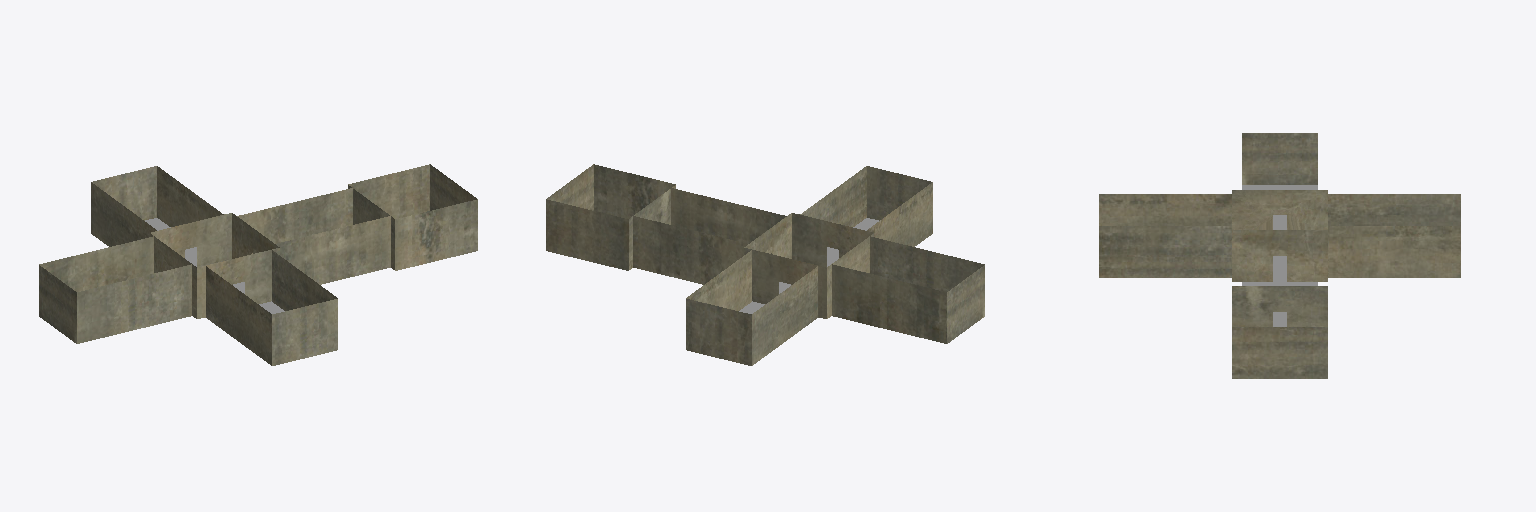
3 views of the same model, side by side, from view 1: azimuth 30°, elevation 25°; view 2: azimuth 150°, elevation 25°; view 3: azimuth 270°, elevation 25° (orthographic).
Parts seen in each view (by area): view 1: Plane.023, Plane; view 2: Plane.023, Plane; view 3: Plane.023, Plane.
Boxes of the visible parts, <box> form: Plane.023: <box>39,164,477,365</box>; Plane: <box>145,218,284,313</box>; Plane.023: <box>546,164,984,365</box>; Plane: <box>739,218,878,313</box>; Plane.023: <box>1099,133,1460,378</box>; Plane: <box>1242,185,1317,326</box>.
Bounding box in the file's own units: 24 × 3 × 19.
Materials: 2 (1 with a texture image).